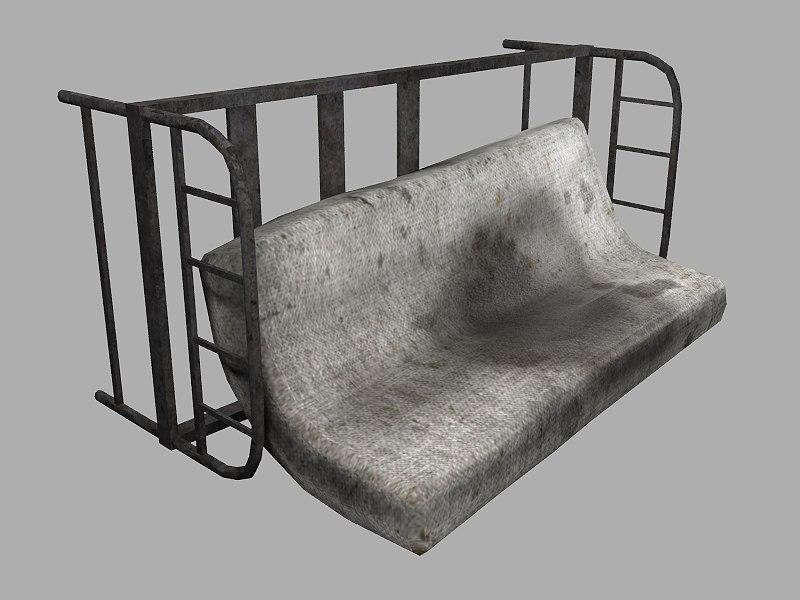Bed-Mattress: (193, 112, 731, 565)
